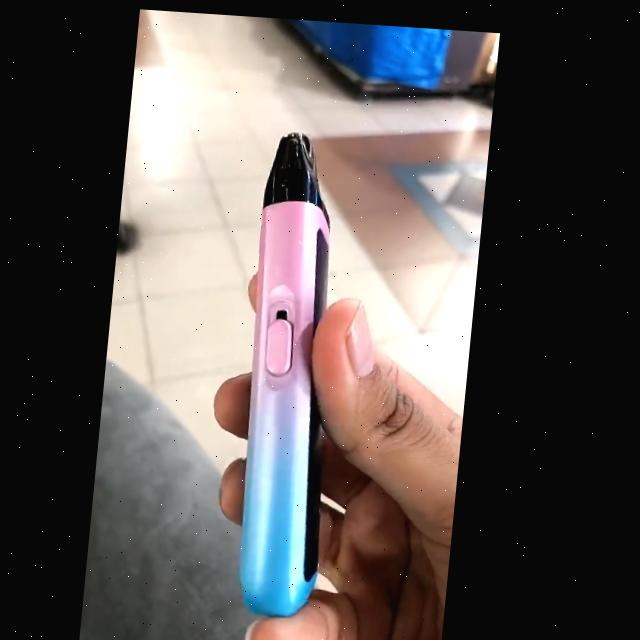vape: (236, 125, 363, 611)
